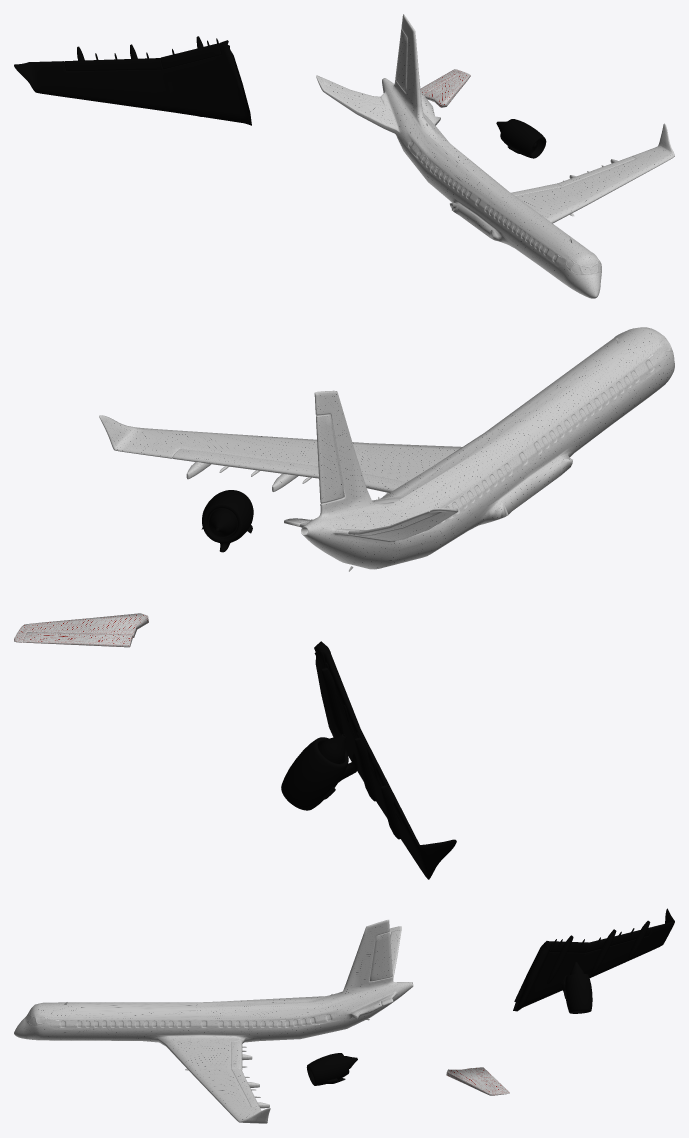
The model's file is Neoflycrashedplane7.gltf.
3 views of the same model, one above another, from view 1: azimuth 30°, elevation 25°; view 2: azimuth 150°, elevation 25°; view 3: azimuth 270°, elevation 25° (orthographic). The views are drawn at different scales.
Visible parts, largest first — view 1: SM_Aeroplane_Smooth, SM_Aeroplane_Smooth.002, SM_Aeroplane_Smooth.003, SM_Aeroplane_Smooth.001; view 2: SM_Aeroplane_Smooth, SM_Aeroplane_Smooth.002, SM_Aeroplane_Smooth.001, SM_Aeroplane_Smooth.003; view 3: SM_Aeroplane_Smooth, SM_Aeroplane_Smooth.002, SM_Aeroplane_Smooth.003, SM_Aeroplane_Smooth.001.
Boxes of the visible parts, <box> form: SM_Aeroplane_Smooth: <box>316,14,674,298</box>; SM_Aeroplane_Smooth.002: <box>14,36,251,125</box>; SM_Aeroplane_Smooth.003: <box>496,119,546,158</box>; SM_Aeroplane_Smooth.001: <box>420,69,470,107</box>; SM_Aeroplane_Smooth: <box>99,327,674,571</box>; SM_Aeroplane_Smooth.002: <box>281,641,456,879</box>; SM_Aeroplane_Smooth.001: <box>14,613,148,647</box>; SM_Aeroplane_Smooth.003: <box>201,490,253,552</box>; SM_Aeroplane_Smooth: <box>14,919,413,1123</box>; SM_Aeroplane_Smooth.002: <box>513,908,674,1013</box>; SM_Aeroplane_Smooth.003: <box>306,1053,357,1085</box>; SM_Aeroplane_Smooth.001: <box>446,1067,509,1095</box>.
Size of the model in its own units: 68.45 by 22.98 by 98.38.
